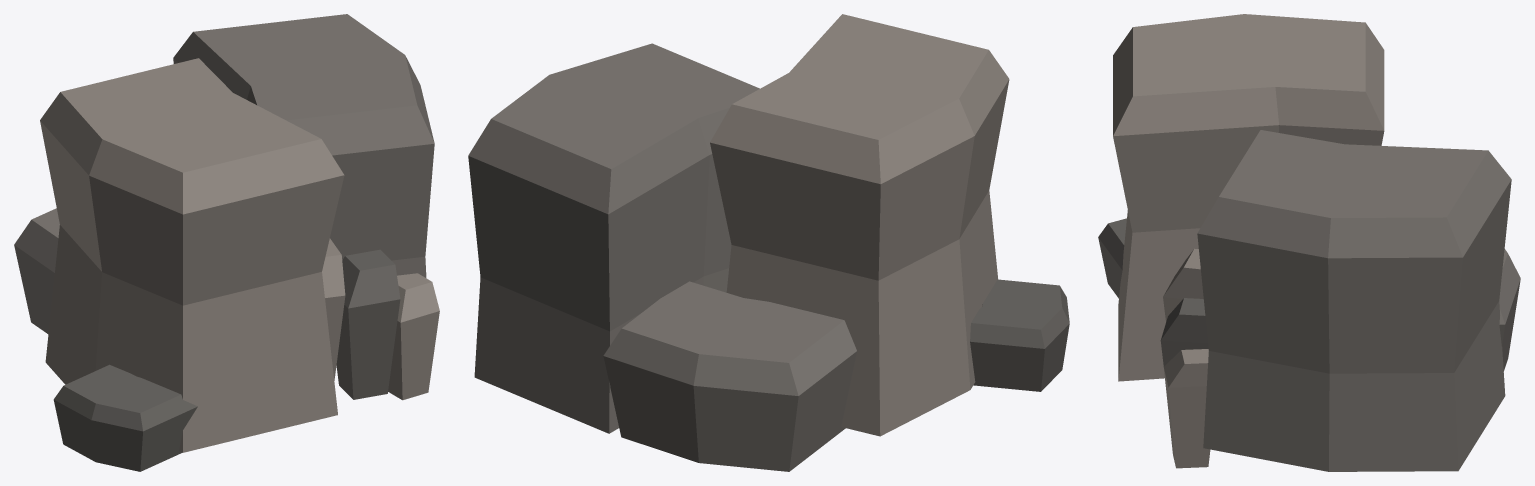
Rendered from squarerock1.fbx.
3 views of the same model, side by side, from view 1: azimuth 30°, elevation 25°; view 2: azimuth 150°, elevation 25°; view 3: azimuth 270°, elevation 25° (orthographic). The views are drawn at different scales.
Parts seen in each view (by area): view 1: SquareRock1; view 2: SquareRock1; view 3: SquareRock1.
Boxes of the visible parts, bbox=[...] form: SquareRock1: bbox=[14, 14, 439, 471]; SquareRock1: bbox=[468, 14, 1069, 471]; SquareRock1: bbox=[1098, 14, 1520, 471].
Size of the model in its own units: 1.87 by 1.27 by 1.57.
